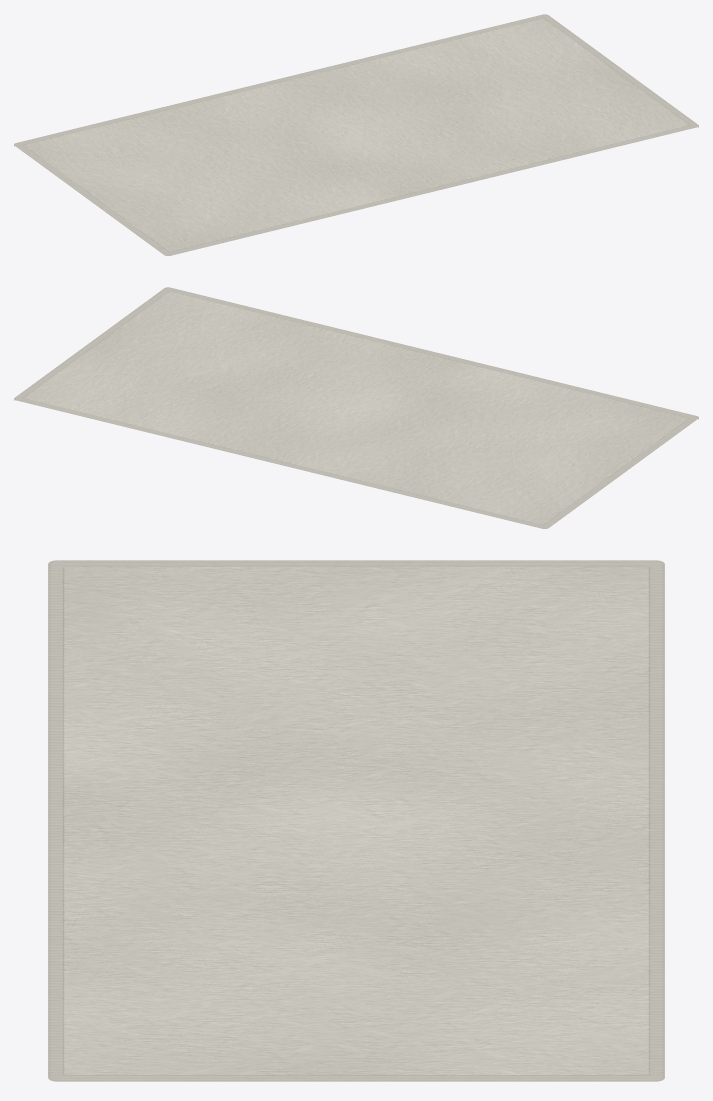
The model's file is ivory_module_r90.glb.
3 views of the same model, one above another, from view 1: azimuth 30°, elevation 25°; view 2: azimuth 150°, elevation 25°; view 3: azimuth 270°, elevation 25° (orthographic). The views are drawn at different scales.
Visible parts, largest first — view 1: reliv_ivory_module_r90; view 2: reliv_ivory_module_r90; view 3: reliv_ivory_module_r90.
Boxes of the visible parts, x1,y1,x2,y2 form: reliv_ivory_module_r90: [14, 14, 698, 255]; reliv_ivory_module_r90: [14, 287, 698, 528]; reliv_ivory_module_r90: [48, 560, 664, 1081].
Size of the model in its own units: 2 by 0.009 by 1.
2 materials, 1 textured.
